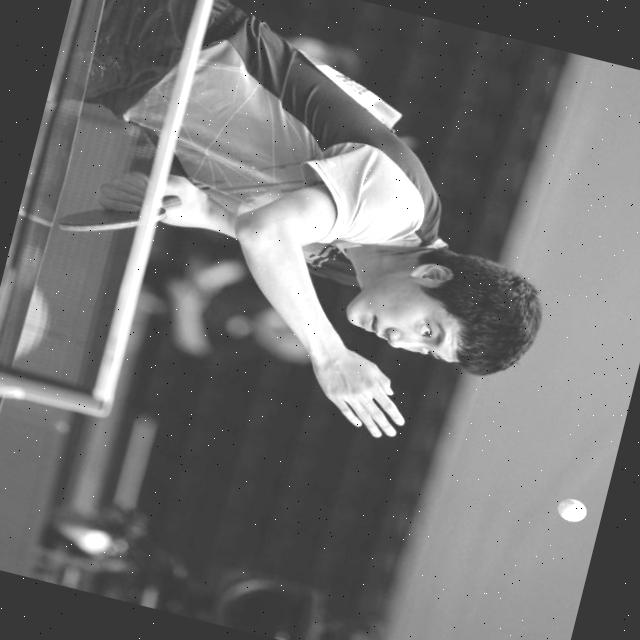ping-pong-ball: (550, 492, 594, 528)
